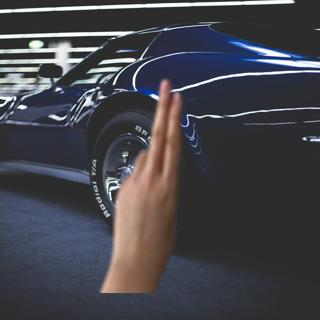DHAVE: (101, 74, 192, 277)
